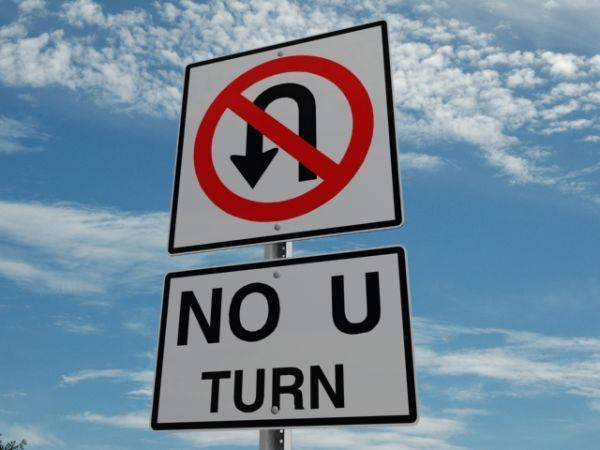no_u_turn: (191, 54, 374, 220)
